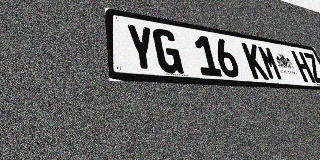1: (192, 34, 222, 77)
6: (212, 37, 241, 78)
G: (152, 28, 184, 74)
H: (291, 51, 316, 83)
K: (241, 42, 269, 80)
M: (257, 45, 284, 81)
Y: (125, 23, 158, 72)
Z: (302, 52, 320, 84)
